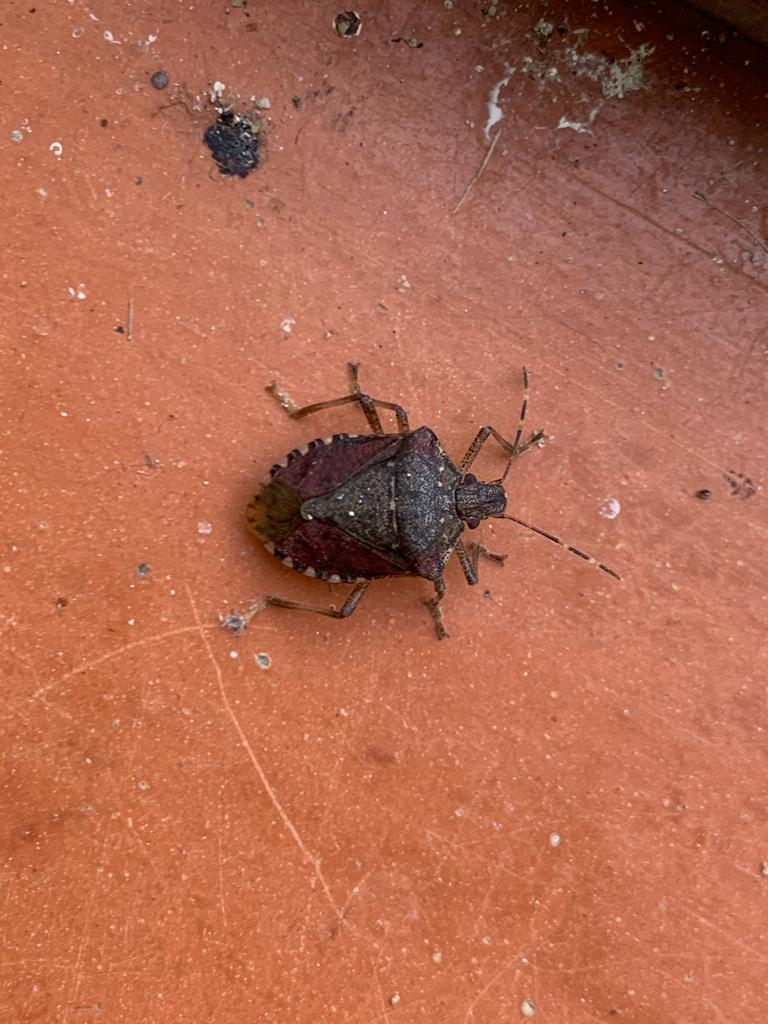stink_bugs: (163, 323, 652, 695)
